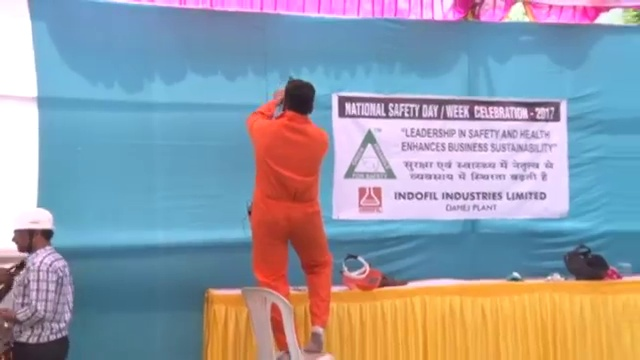helmet: (11, 204, 57, 232)
helmet_off: (283, 79, 315, 118)
helmet_on: (10, 204, 54, 255)
person: (244, 78, 334, 360), (1, 204, 74, 357)
